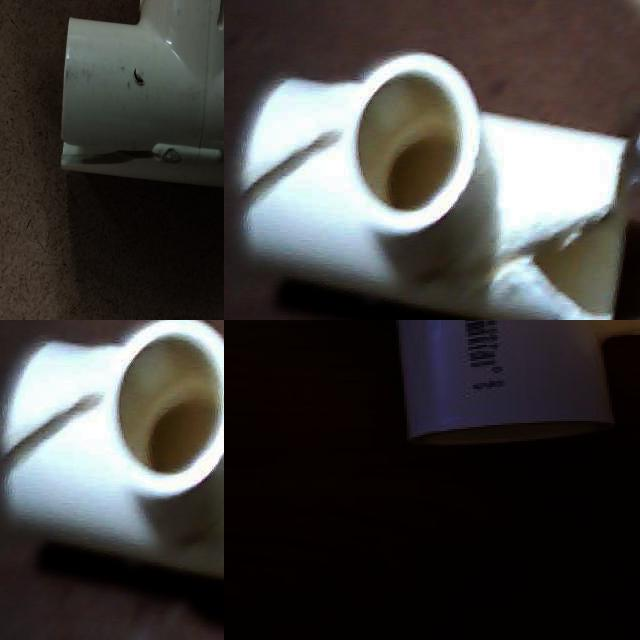Defective: (432, 193, 624, 320), (228, 101, 348, 220), (0, 364, 109, 483), (526, 207, 629, 316), (237, 130, 342, 233), (0, 393, 103, 496)
T Joint: (231, 53, 632, 320), (0, 320, 224, 602), (394, 320, 640, 450)
